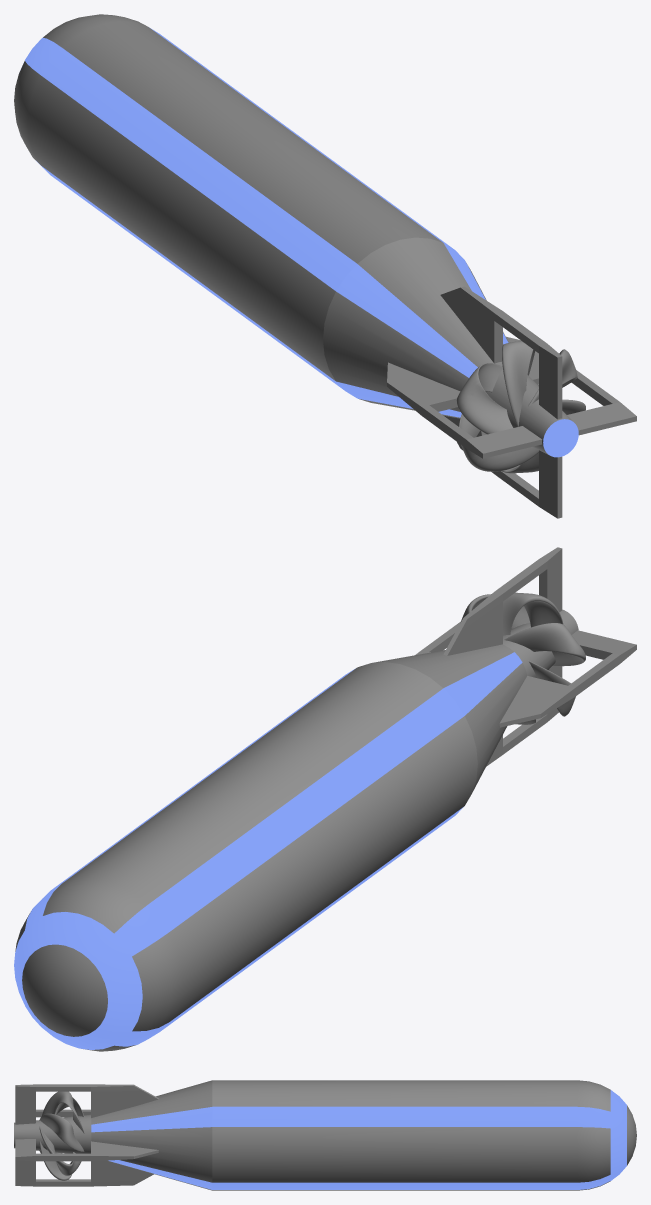
The model's file is Torpedo.fbx.
The picture shows the model from 3 angles, top to bottom: view 1: azimuth 30°, elevation 25°; view 2: azimuth 150°, elevation 25°; view 3: azimuth 270°, elevation 25°; orthographic projection. The views are drawn at different scales.
Visible parts, largest first — view 1: Sphere, Cube.002, Cube.001, Sharrow_propeller.001, Sharrow_propeller.003; view 2: Sphere, Cube.002, Cube.001, Sharrow_propeller.003, Sharrow_propeller.001; view 3: Sphere, Cube.002, Cube.001, Sharrow_propeller.003, Sharrow_propeller.001.
Boxes of the visible parts, box(x1,y1,x2,y2) form: Sphere: box(14, 14, 578, 457); Cube.002: box(440, 286, 562, 518); Cube.001: box(387, 336, 636, 458); Sharrow_propeller.001: box(459, 341, 585, 471); Sharrow_propeller.003: box(456, 349, 577, 473); Sphere: box(14, 609, 578, 1051); Cube.002: box(443, 547, 562, 766); Cube.001: box(415, 621, 636, 727); Sharrow_propeller.003: box(460, 594, 585, 724); Sharrow_propeller.001: box(503, 592, 575, 716); Sphere: box(14, 1080, 636, 1190); Cube.002: box(15, 1084, 158, 1186); Cube.001: box(15, 1109, 158, 1161); Sharrow_propeller.003: box(39, 1097, 84, 1180); Sharrow_propeller.001: box(39, 1091, 84, 1175).
Bounding box in the file's own units: 35.33 × 35.33 × 199.
